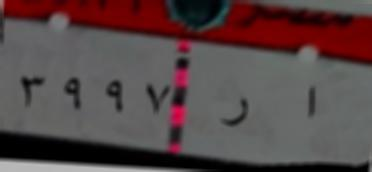3: (17, 68, 47, 115)
7: (144, 76, 170, 117)
9: (56, 74, 90, 112), (101, 76, 128, 118)
alif: (297, 80, 322, 125)
raa: (216, 94, 252, 134)
